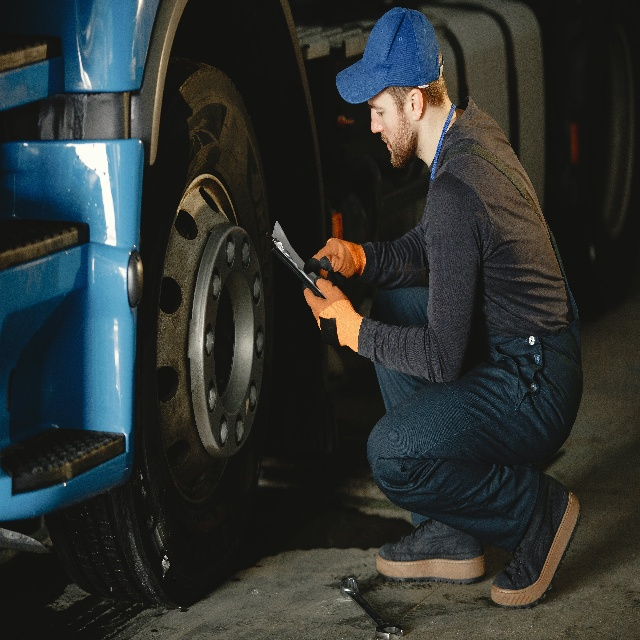Guantes: (303, 275, 358, 348), (303, 236, 362, 277)
